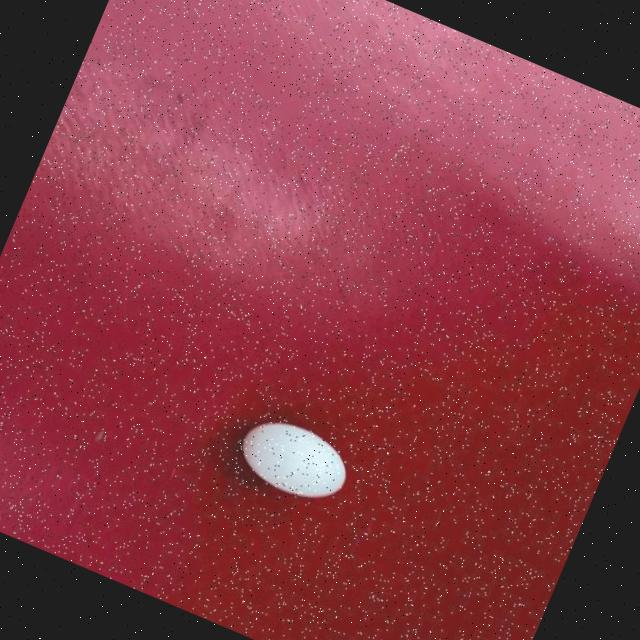ping-pong-ball: (227, 404, 361, 514)
